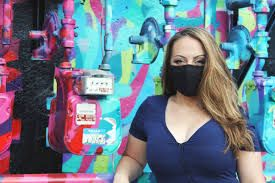with-mask: (166, 29, 217, 98)
